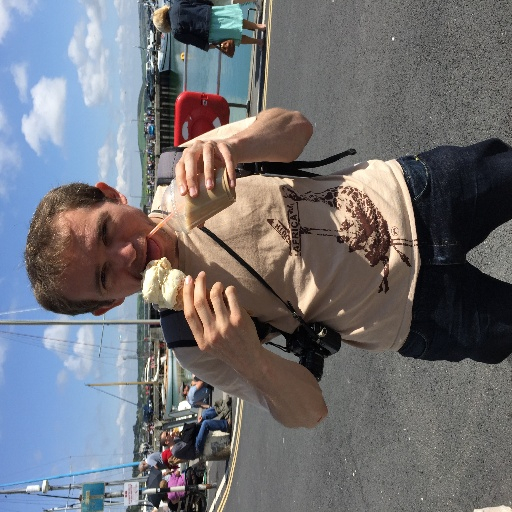hand: (174, 279, 257, 378), (173, 135, 238, 231), (209, 42, 217, 49), (197, 416, 203, 425)
